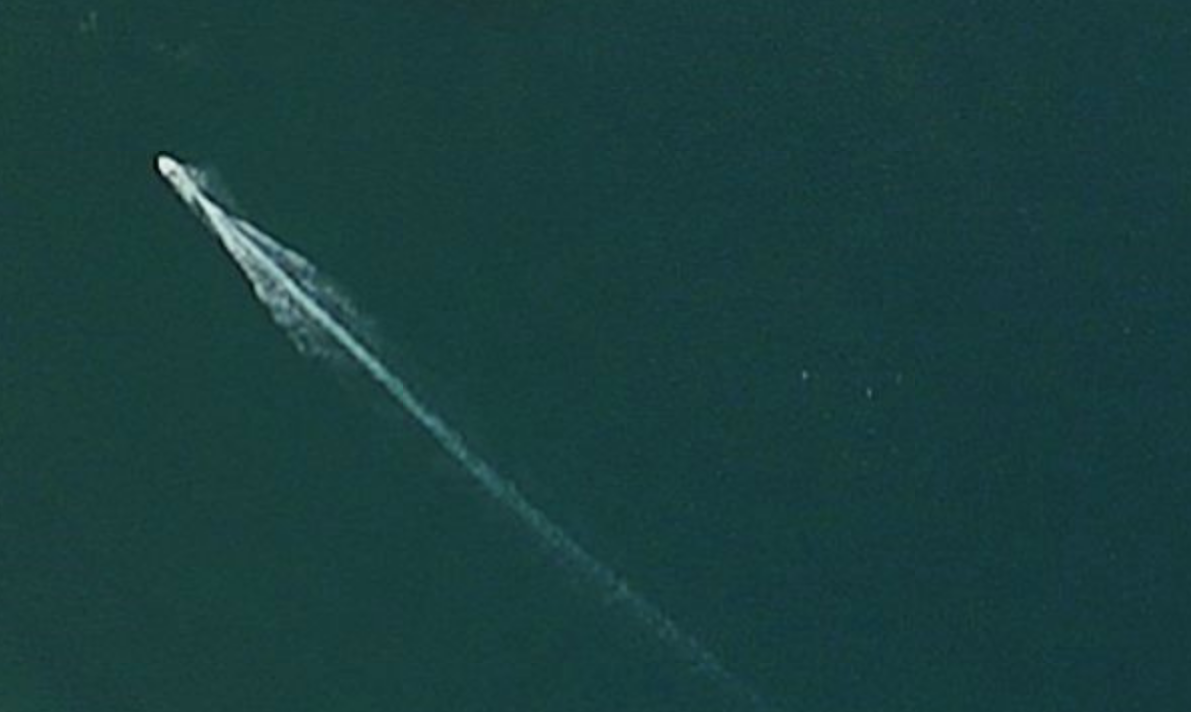ship: (147, 147, 217, 212)
